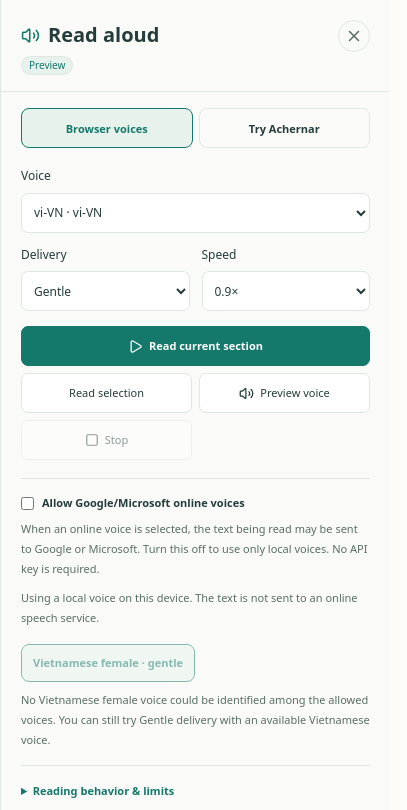
read aloud panel › can read just the selection without fetching a chapter
Click the button "Read selection" at (106, 393), box x1=21 y1=373 x2=192 y2=413
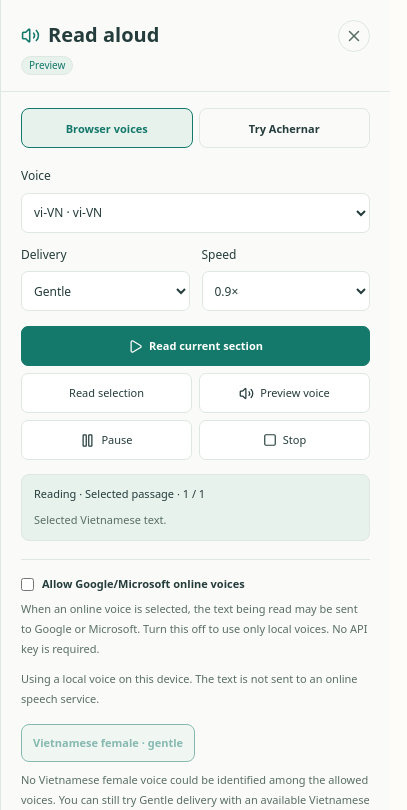
Now the text "Selected Vietnamese text." is shown, box x1=34 y1=512 x2=166 y2=527
